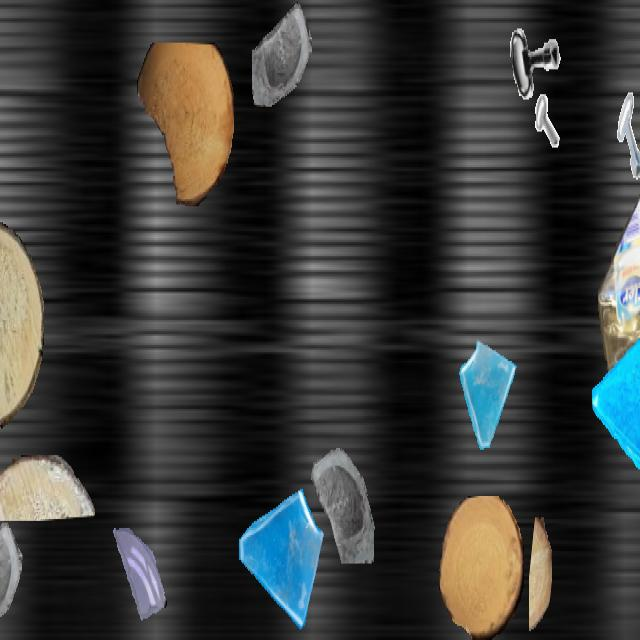glass: (235, 478, 325, 638), (301, 426, 377, 562), (592, 314, 640, 474), (456, 338, 520, 452), (252, 2, 312, 108), (110, 524, 168, 628), (0, 523, 22, 633)
metal: (503, 2, 565, 112), (511, 91, 559, 176), (609, 90, 640, 180)
plastic: (598, 180, 640, 439)
wood: (137, 43, 233, 206), (439, 496, 523, 638), (0, 217, 43, 427), (0, 455, 95, 519), (529, 518, 551, 638)
